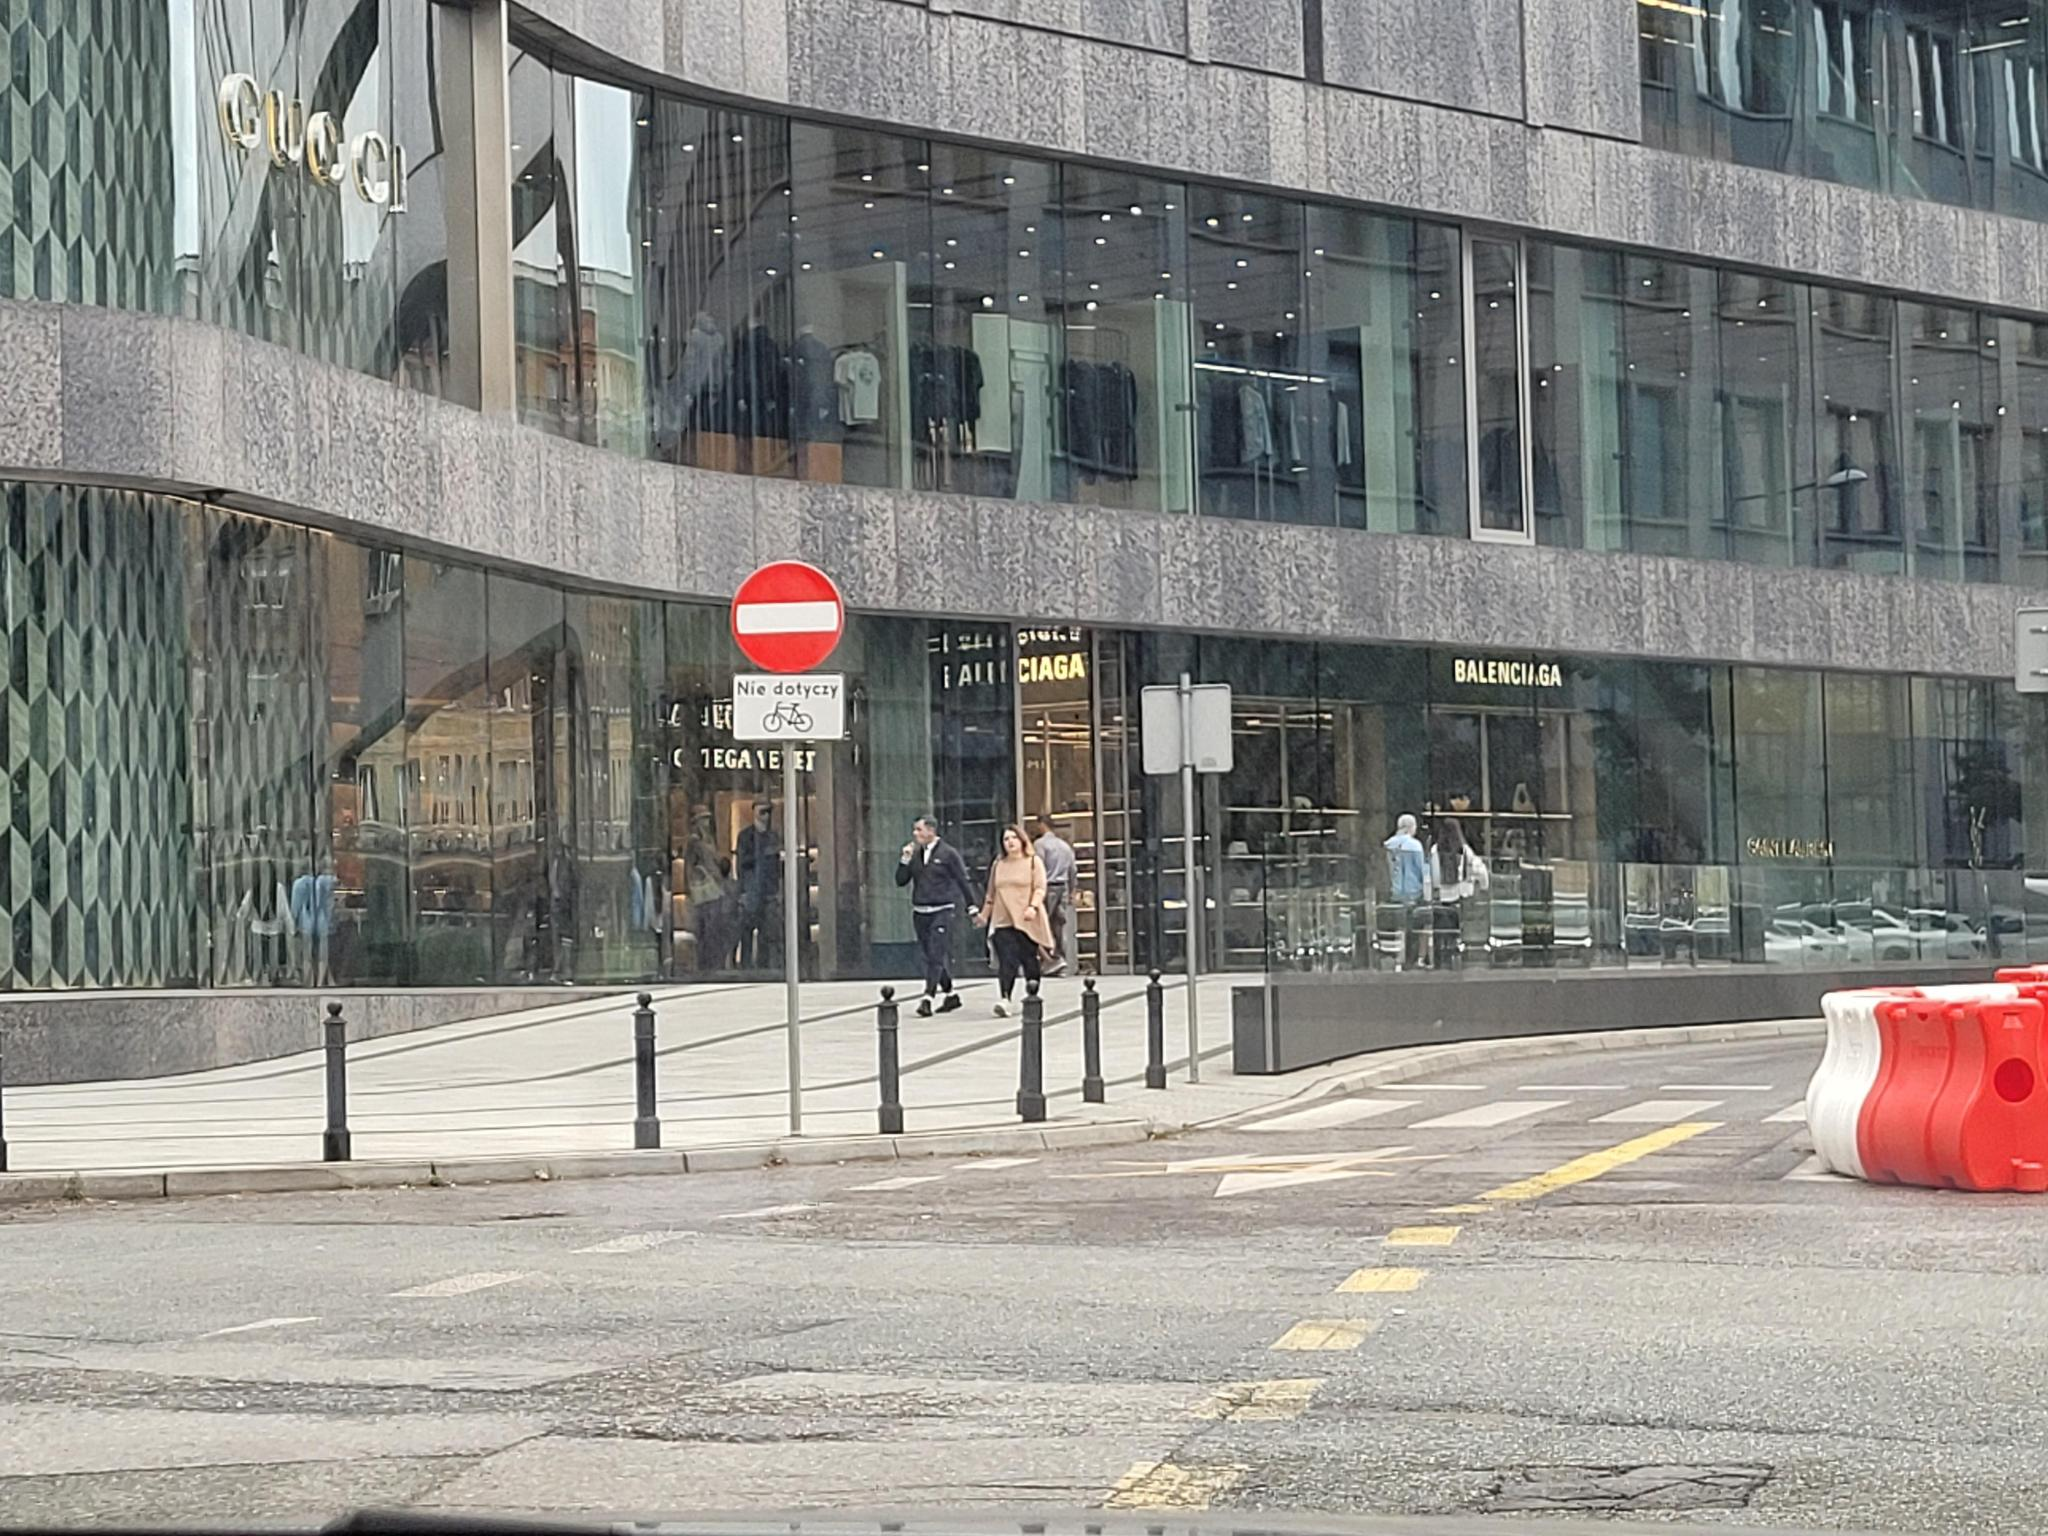other: (734, 676, 842, 736)
prohibitory: (732, 558, 843, 673)
